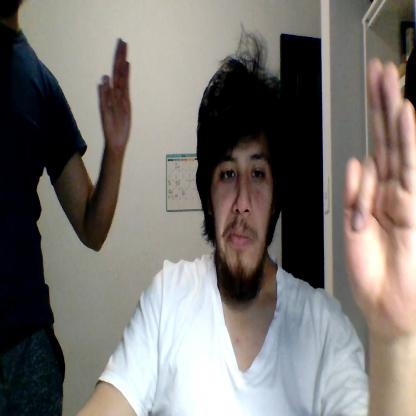F: (343, 58, 415, 332), (97, 39, 131, 150)
